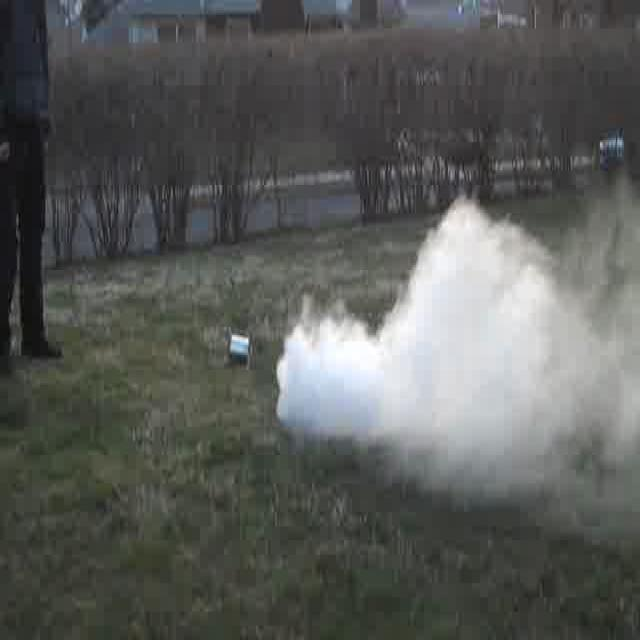Smoke: (290, 227, 610, 490)
